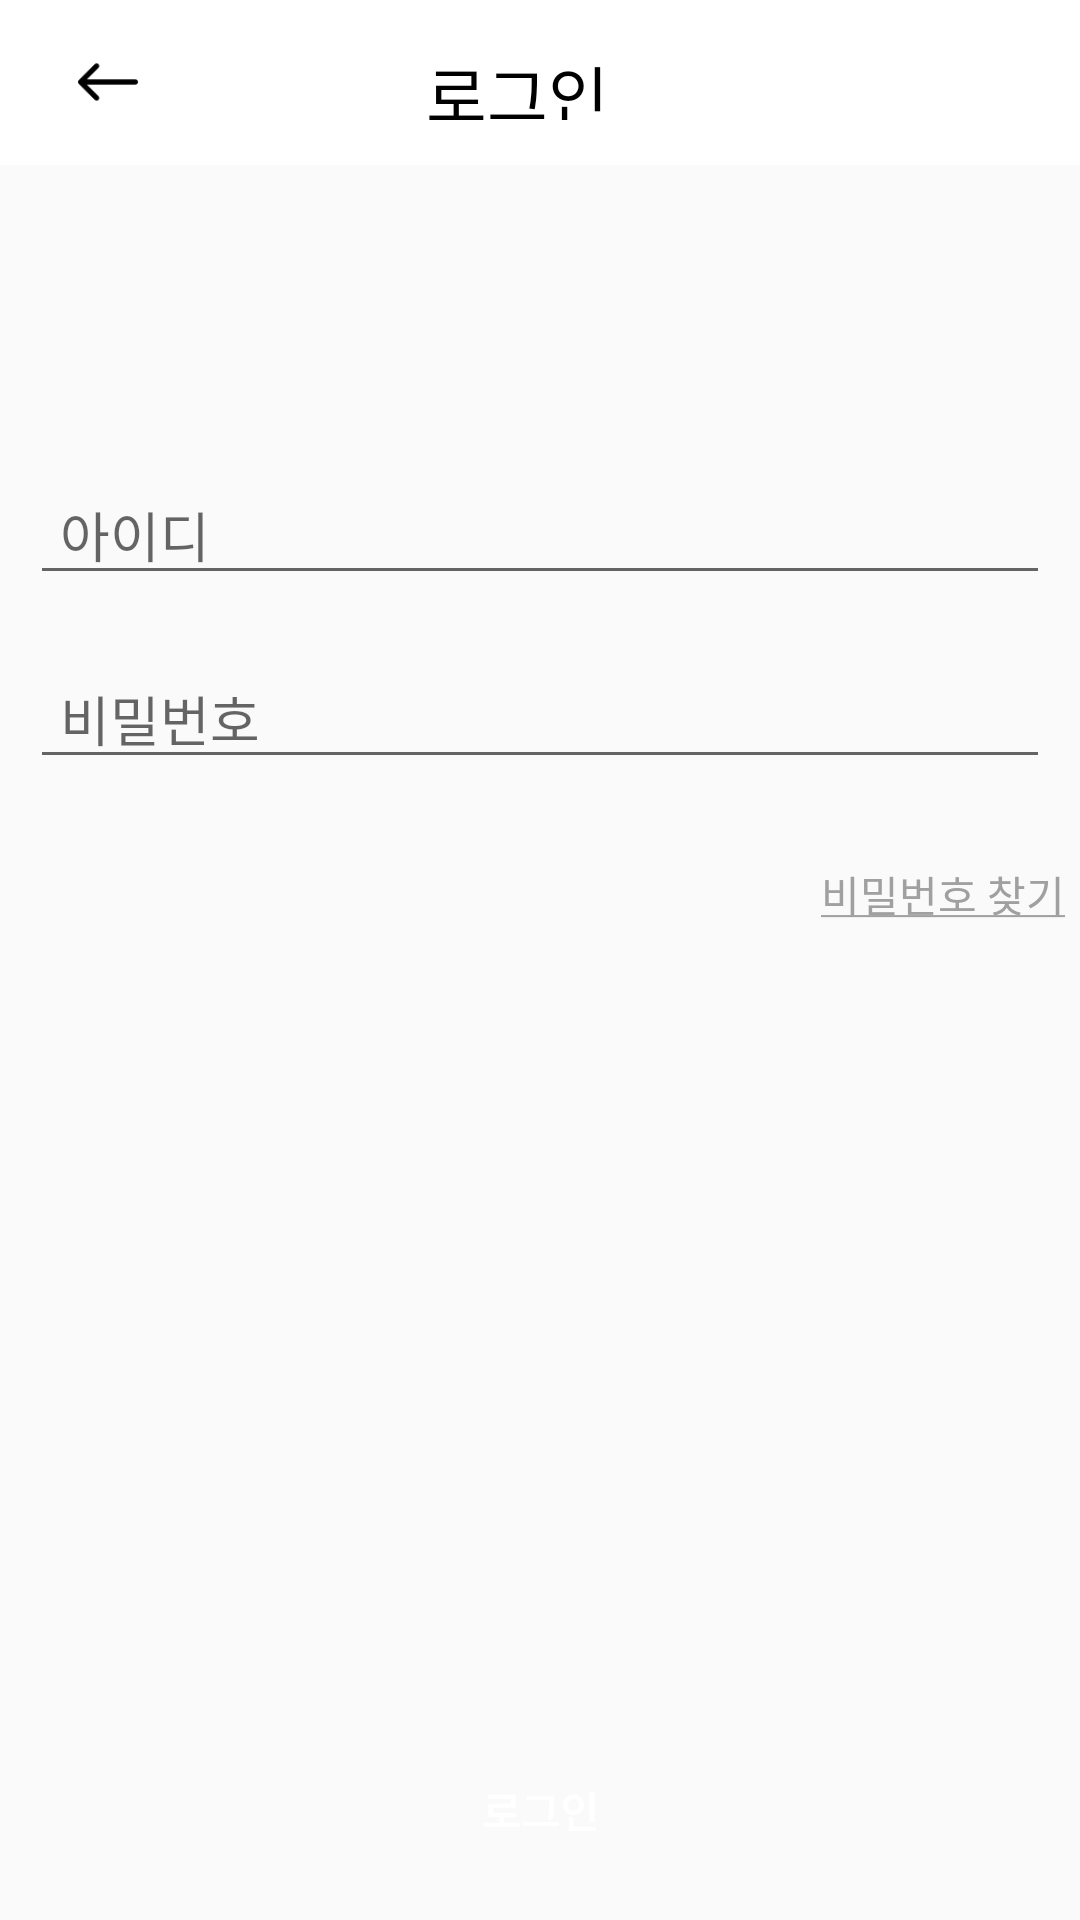

Point at icon controls on the screen. Image size 1080px×1920px, points as (x,y).
left arrow: (108,82)
